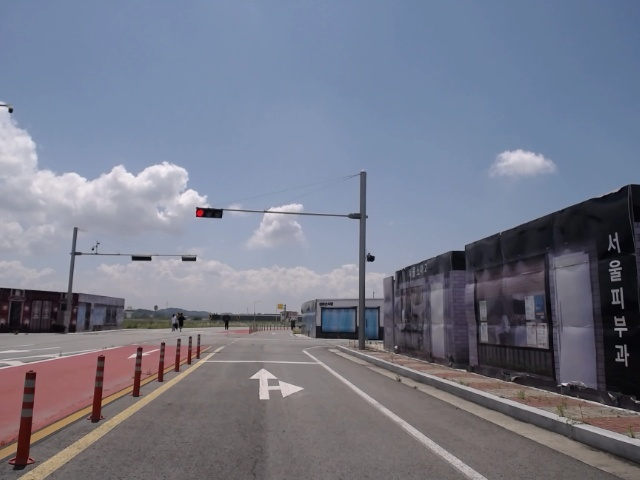red_3: (194, 205, 224, 219)
